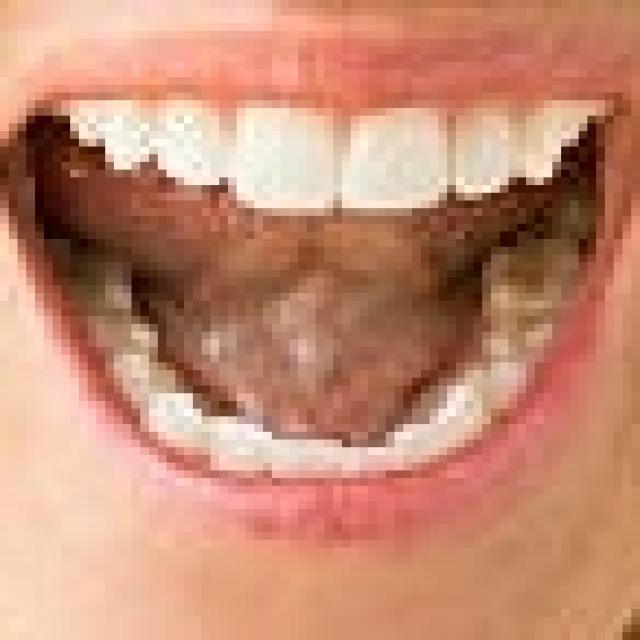open-mouth: (0, 77, 631, 486)
